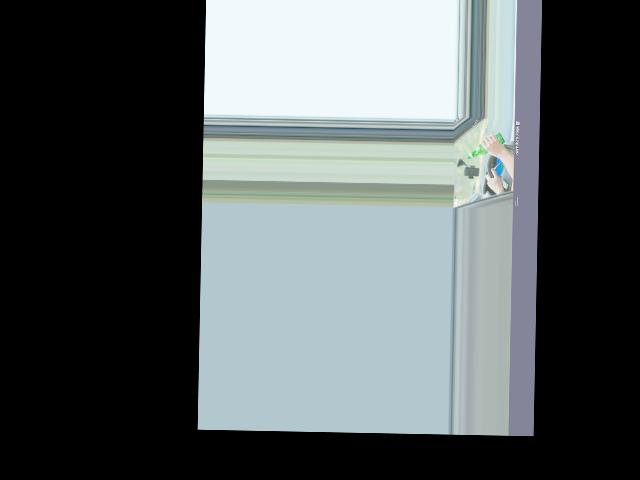beer: (467, 133, 505, 160)
